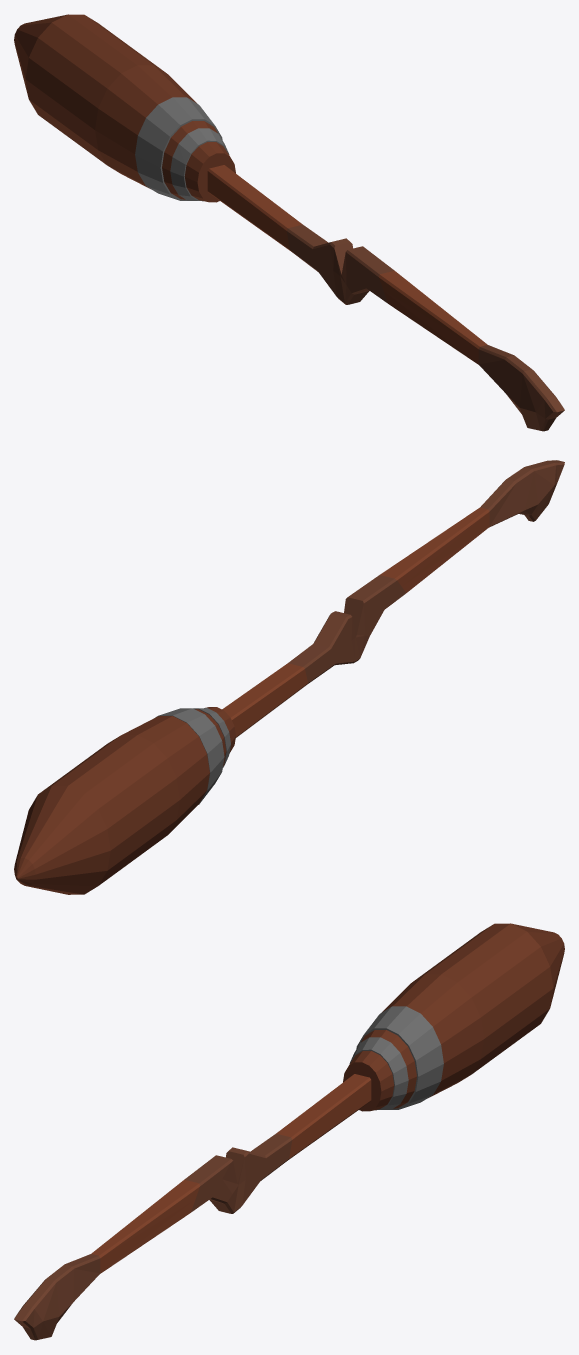
File: comet260.obj
3 renders of one model, top to bottom at view 1: azimuth 30°, elevation 25°; view 2: azimuth 150°, elevation 25°; view 3: azimuth 330°, elevation 25°, orthographic.
Parts seen in each view (by area): view 1: Body; view 2: Body; view 3: Body.
Boxes of the visible parts, left/top/right/bottom form: Body: left=14, top=14, right=564, bottom=431; Body: left=14, top=460, right=564, bottom=894; Body: left=14, top=923, right=564, bottom=1340.
Bounding box in the file's own units: 0.4293 × 0.5255 × 4.75.
